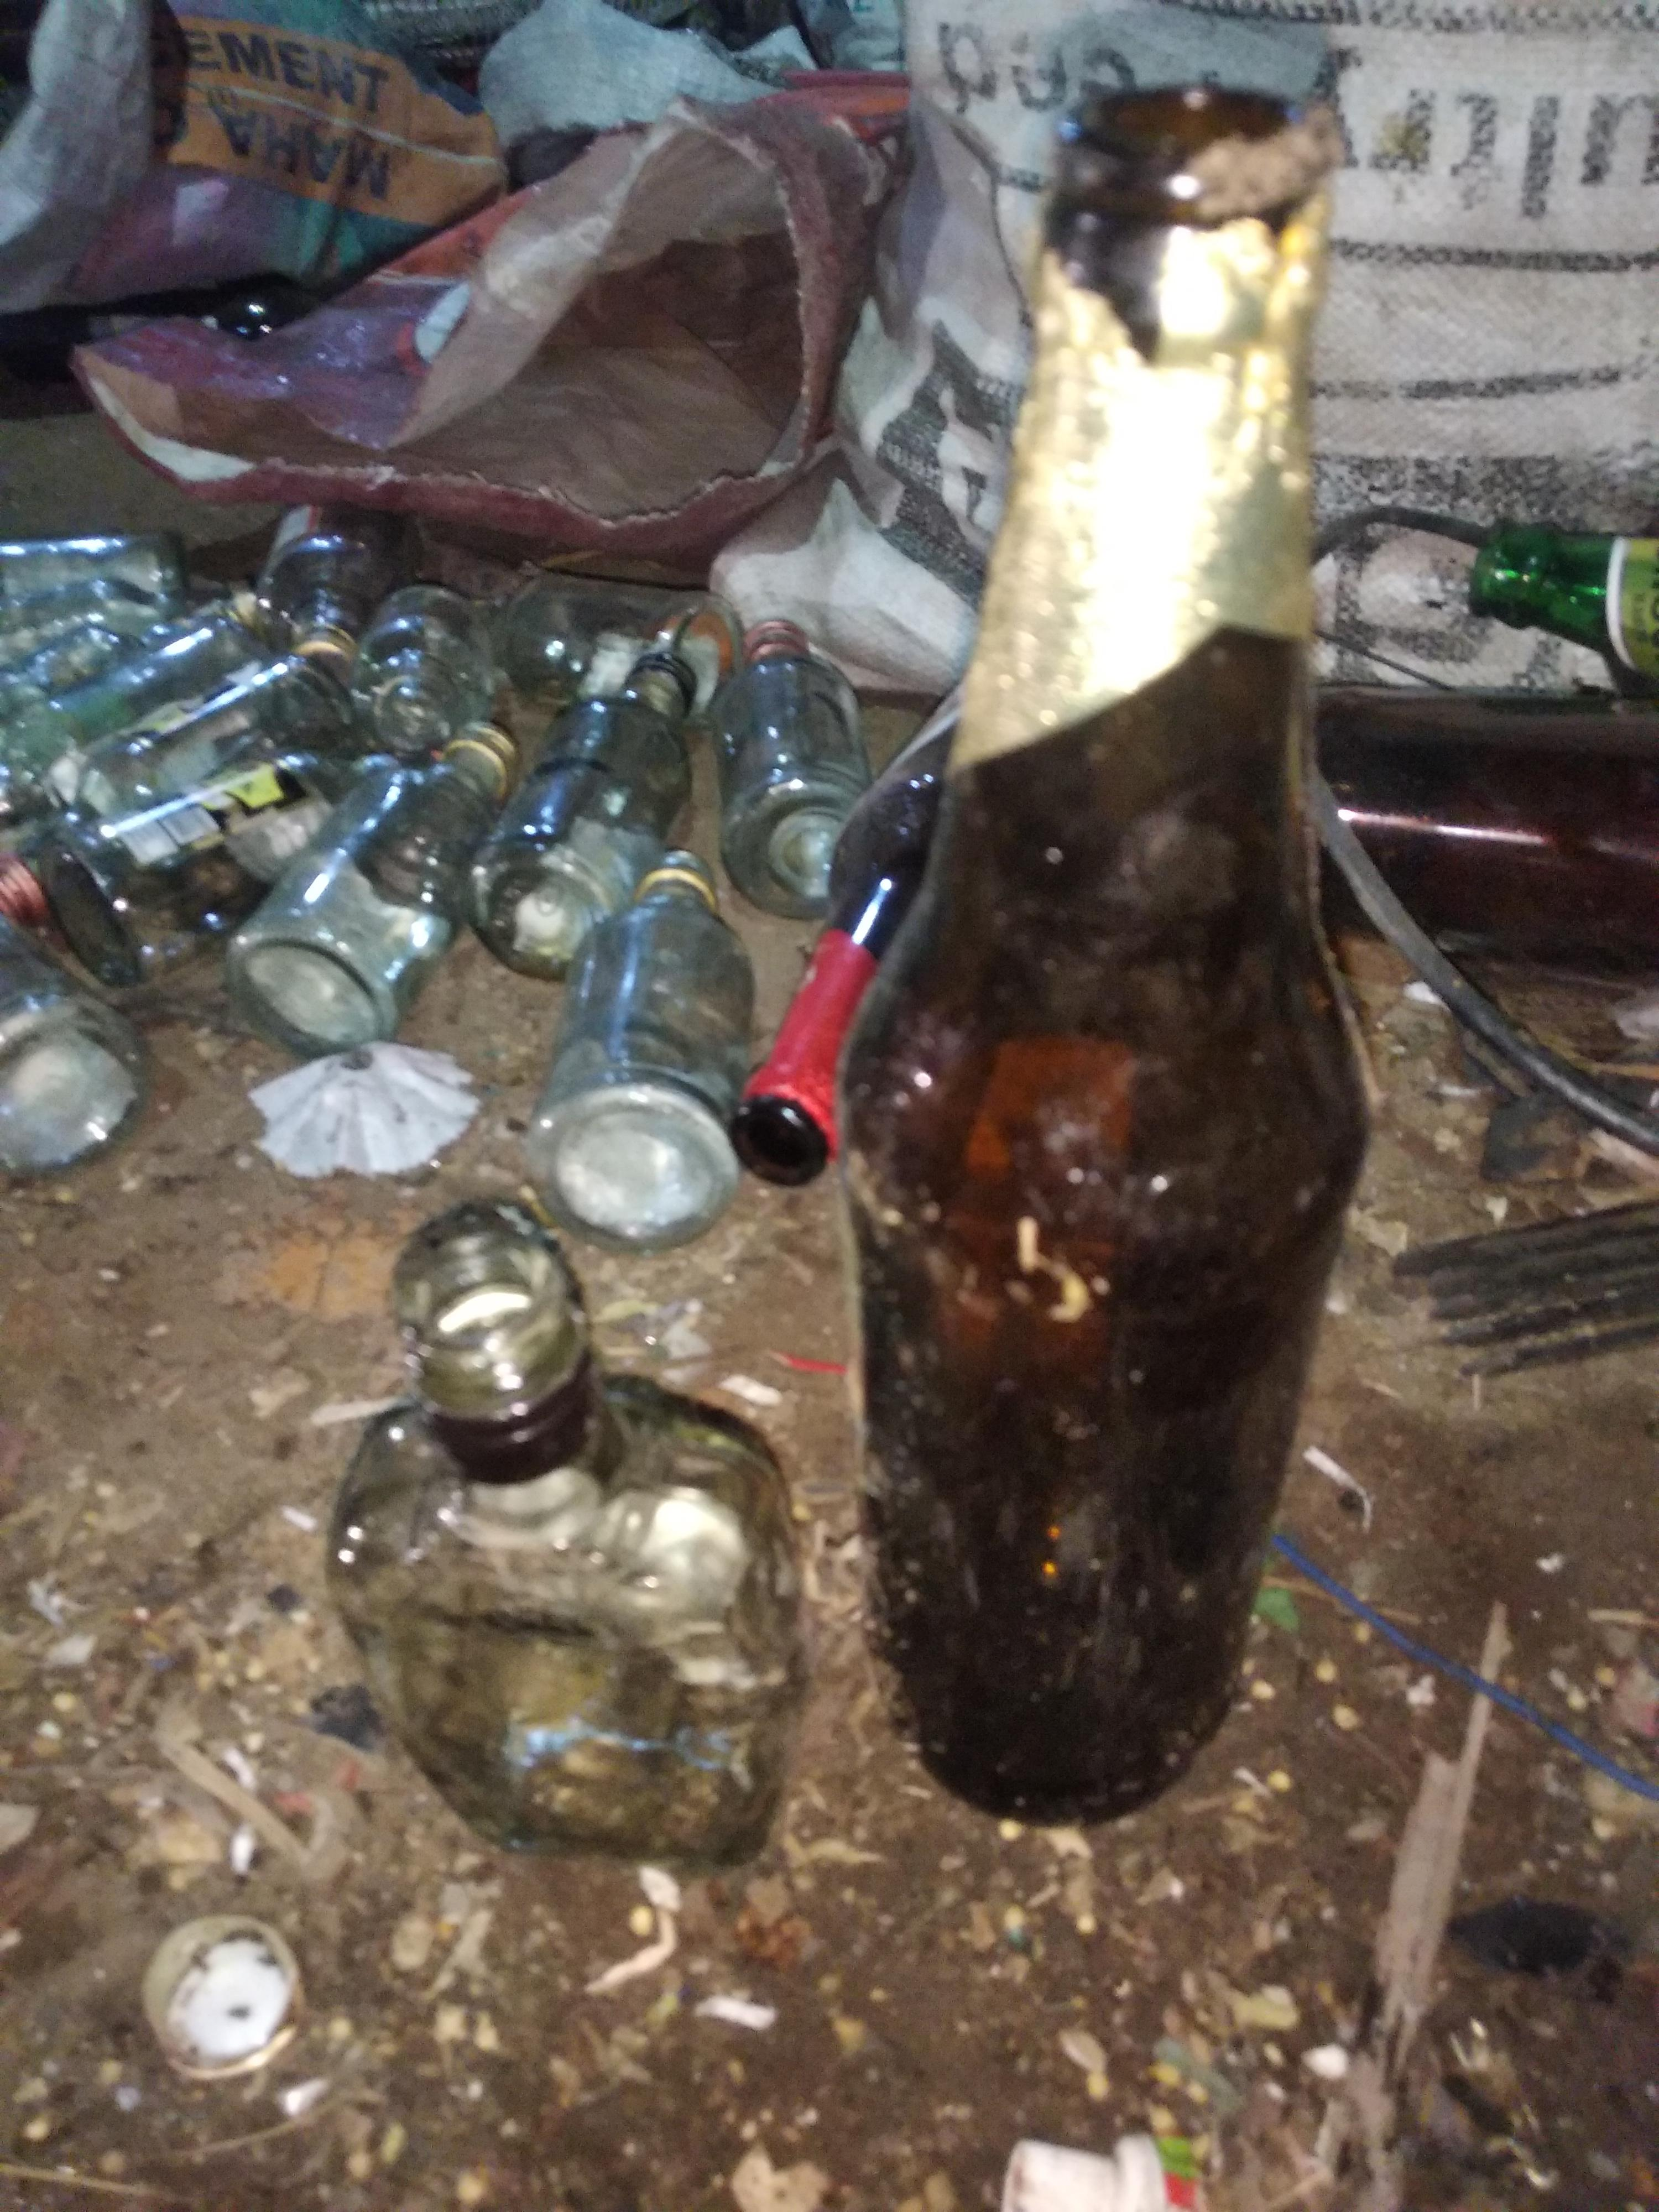trash: (0, 0, 1659, 2088)
